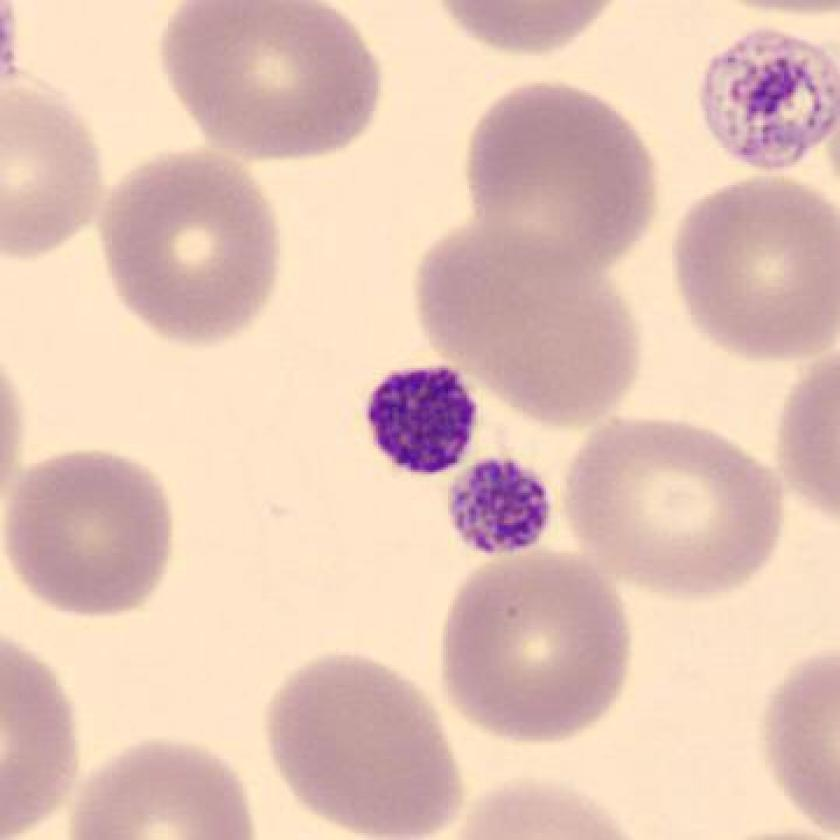platelets: (682, 20, 839, 189), (356, 353, 491, 485), (440, 450, 563, 570)
